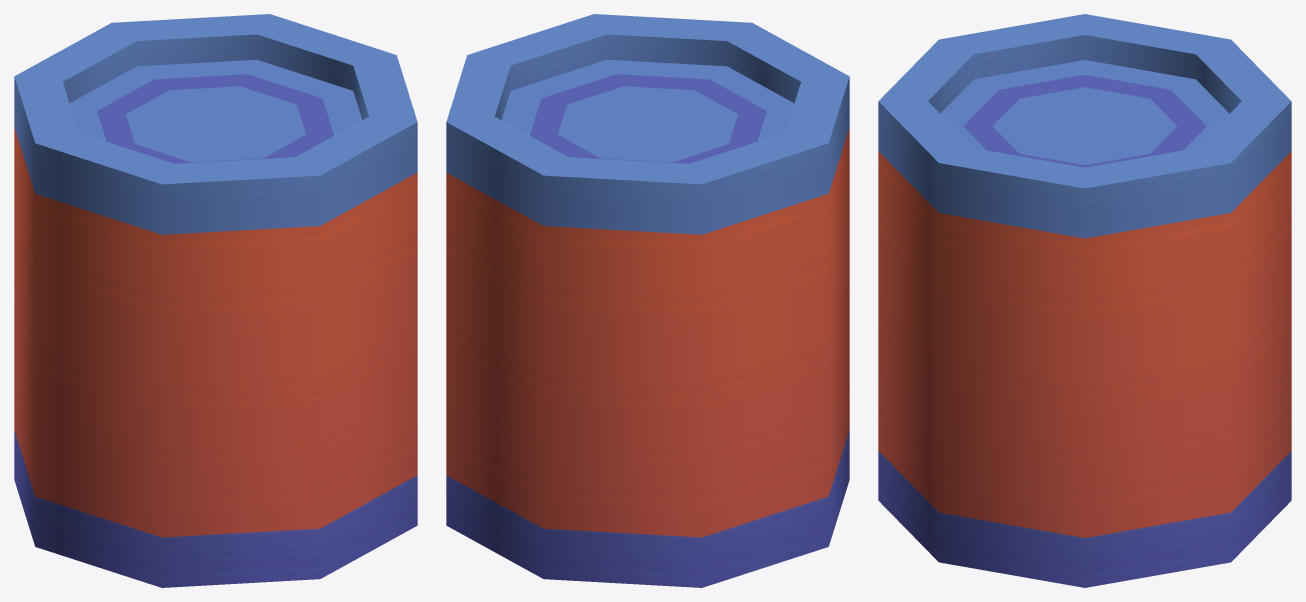
Rendered from Toy_Drum.glb.
The picture shows the model from 3 angles, left to right: view 1: azimuth 30°, elevation 25°; view 2: azimuth 150°, elevation 25°; view 3: azimuth 270°, elevation 25°; orthographic projection.
Visible parts, largest first — view 1: Toy_Drum; view 2: Toy_Drum; view 3: Toy_Drum.
Part boxes in pixels (bbox=[...]): Toy_Drum: bbox=[14, 14, 417, 587]; Toy_Drum: bbox=[446, 14, 849, 587]; Toy_Drum: bbox=[878, 14, 1291, 587].
Size of what is drawn, in the model's own units: 0.3 by 0.32 by 0.3.
1 material, 1 textured.
